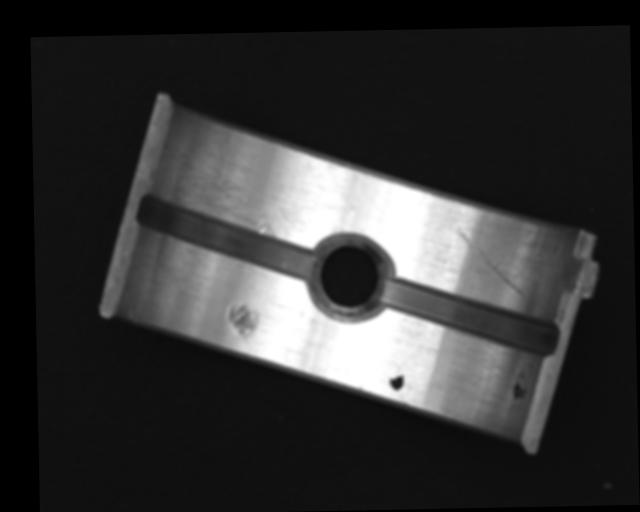blot: (511, 371, 528, 401), (389, 367, 405, 391)
bruise: (227, 303, 261, 345)
gap: (137, 190, 316, 283), (381, 274, 560, 359)
hole: (310, 235, 389, 322)
nick: (455, 224, 524, 298)
scratch: (160, 144, 305, 246)
